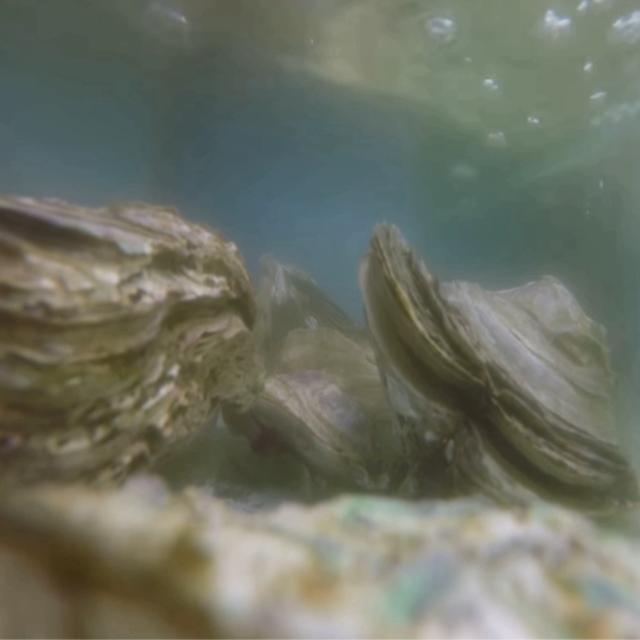Oyster-Closed: (0, 194, 257, 527), (260, 330, 419, 500)
Oyster-Indeterminate: (0, 476, 640, 640)
Oyster-Open: (357, 220, 640, 538)
